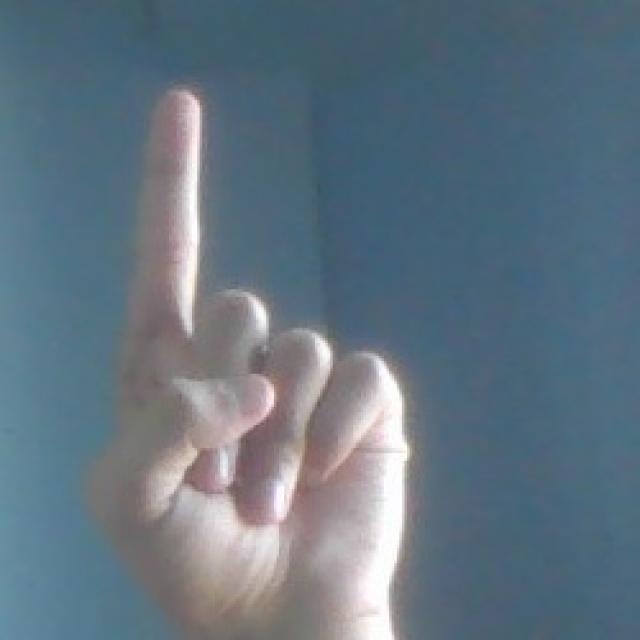Numeric-1: (92, 87, 414, 630)
